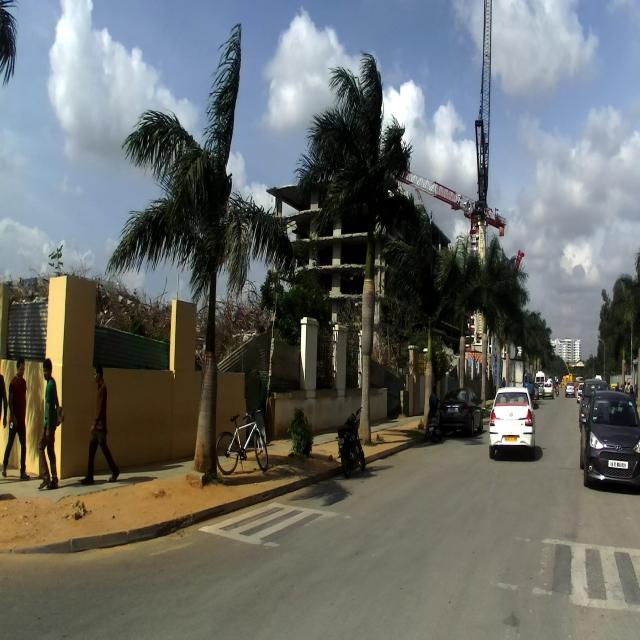car: (579, 388, 640, 491), (487, 384, 536, 458)
motorcycle: (335, 400, 368, 477)
